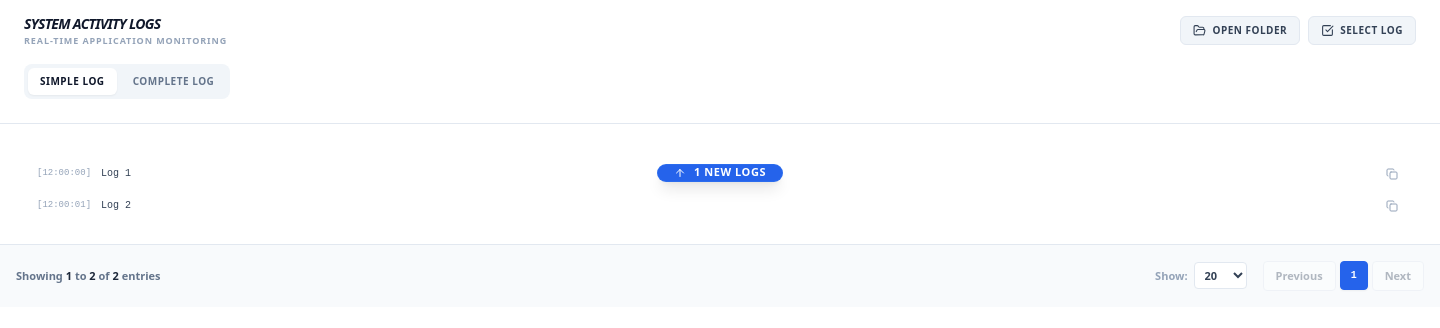
Test: LogViewer Component › Real-time Log Buffering › buffers new logs and shows a floating badge when isActive is true
Expected: the text "Log 1" is shown, [101, 168, 131, 179]
Expected: the text "Log 2" is shown, [101, 200, 131, 211]
# Test hover behavior
Hover over the button "1 new logs" at (720, 172), box [657, 164, 783, 182]
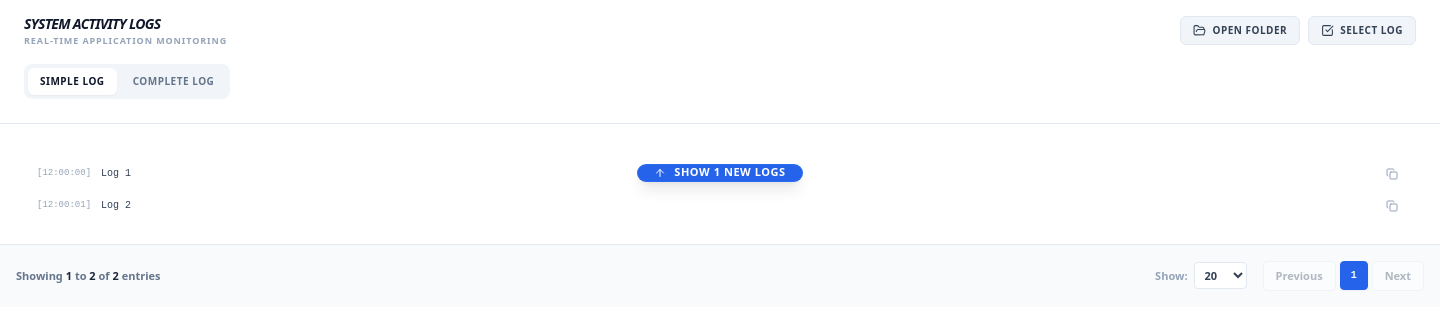
Expected: the text "show 1 new logs" is shown, [674, 164, 786, 181]
Move the pointer off the button "show 1 new logs", box [637, 164, 803, 182]
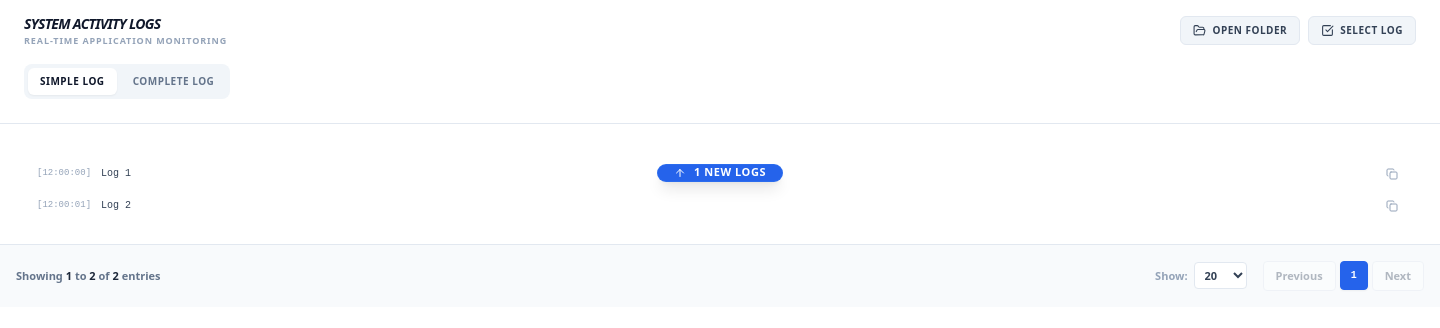
Expected: the text "1 new logs" is shown, [694, 164, 766, 181]
# Click the badge to release the buffered logs
Click the button "1 new logs" at (720, 172), box [657, 164, 783, 182]
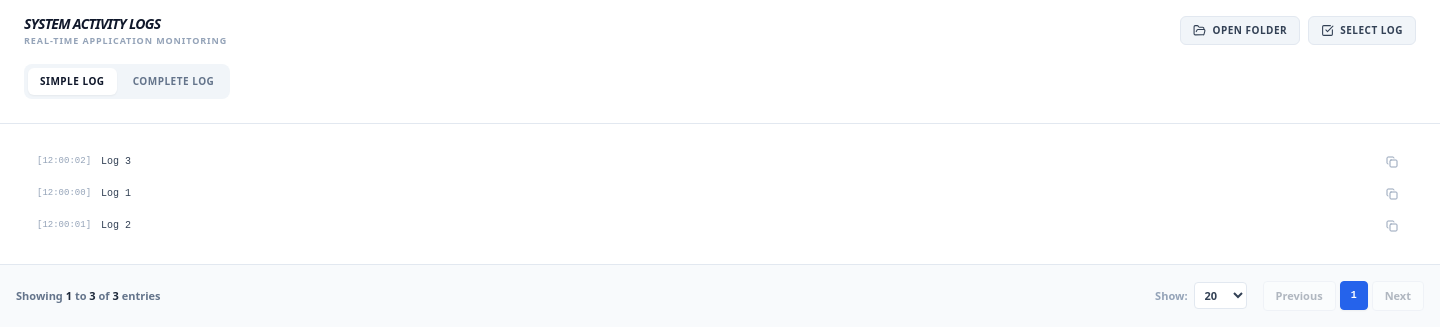
Expected: the text "Log 3" is shown, [101, 156, 131, 167]
Expected: the button "new logs" is gone
